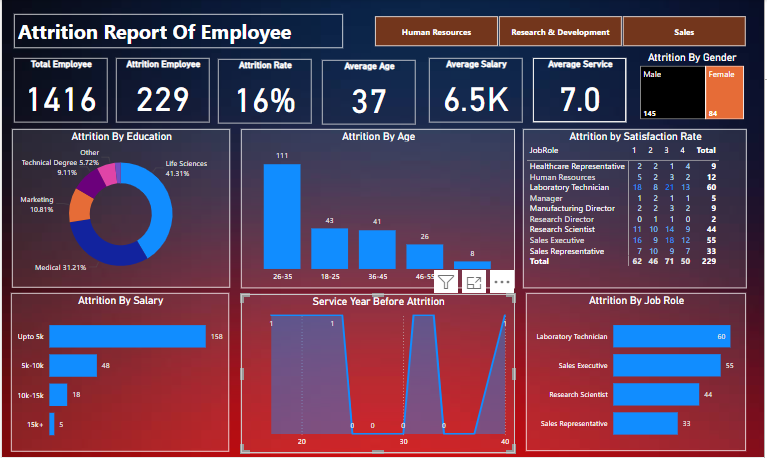

This screenshot's page, from the dashboard's own definition file:
{"tool":"powerbi","page":{"name":"Page 1","canvas":[1230,740],"ordinal":0},"visuals":[{"type":"card","title":"Total Employee","fields":{"Values":["CountNonNull(HR_Analytics.EmpID)"]},"box":[19.2,95.3,151.2,103.9],"z":0},{"type":"card","title":"Average Service","fields":{"Values":["Avg(HR_Analytics.YearsAtCompany)"]},"box":[856.3,95.3,151.2,103.9],"z":1000},{"type":"card","title":"Attrition Employee","fields":{"Values":["Sum(HR_Analytics.AttritionCount)"]},"box":[183.6,95.3,151.2,103.9],"z":2000},{"type":"card","title":"Attrition Rate","fields":{"Values":["HR_Analytics.AttritionRate"]},"box":[348,97.2,151.2,103.9],"z":3000},{"type":"card","title":"Average Age","fields":{"Values":["Avg(HR_Analytics.Age)"]},"box":[516.2,99.1,151.2,103.9],"z":4000},{"type":"card","title":"Average Salary","fields":{"Values":["Avg(HR_Analytics.MonthlyIncome)"]},"box":[690,95.3,151.2,103.9],"z":5000},{"type":"donutChart","title":"Attrition By Education","fields":{"Category":["HR_Analytics.EducationField"],"Y":["CountNonNull(HR_Analytics.Attrition)"]},"box":[16.2,210.1,351.7,256.3],"z":6000},{"type":"columnChart","title":"Attrition By Age","fields":{"Category":["HR_Analytics.AgeGroup"],"Y":["Sum(HR_Analytics.AttritionCount)"]},"box":[385.5,209.8,442.2,257],"z":7000},{"type":"pivotTable","title":"Attrition by Satisfaction Rate","fields":{"Rows":["HR_Analytics.JobRole"],"Columns":["HR_Analytics.JobSatisfaction"],"Values":["Sum(HR_Analytics.AttritionCount)"]},"box":[841,209.8,360.9,257],"z":8000},{"type":"barChart","title":"Attrition By Salary","fields":{"Category":["HR_Analytics.SalarySlab"],"Y":["Sum(HR_Analytics.AttritionCount)"]},"box":[15.1,474.2,351.7,256.3],"z":9000},{"type":"barChart","title":"Attrition By Job Role","fields":{"Category":["HR_Analytics.JobRole"],"Y":["Sum(HR_Analytics.AttritionCount)"]},"box":[846.6,474.3,355.3,255.1],"z":10000},{"type":"areaChart","title":"Service Year Before Attrition","fields":{"Category":["HR_Analytics.YearsAtCompany"],"Y":["Sum(HR_Analytics.AttritionCount)"]},"box":[385.5,476.2,442.2,257],"z":11000},{"type":"treemap","title":"Attrition By Gender","fields":{"Group":["HR_Analytics.Gender"],"Values":["Sum(HR_Analytics.AttritionCount)"]},"box":[1024.3,83.2,177.6,115.3],"z":12000},{"type":"slicer","fields":{"Values":["HR_Analytics.Department"]},"box":[576.4,20.8,648.2,62.4],"z":13000},{"type":"textbox","box":[18.9,24.6,531,54.8],"z":14000}]}

Visuals, with their boxes in screenshot pixels (x1, y1, x2, y2), scaled from the page's 1230x740 canvas onto the 767x458 screenshot:
"Total Employee" card: select_region(12, 59, 106, 123)
"Average Service" card: select_region(534, 59, 628, 123)
"Attrition Employee" card: select_region(114, 59, 209, 123)
"Attrition Rate" card: select_region(217, 60, 311, 124)
"Average Age" card: select_region(322, 61, 416, 126)
"Average Salary" card: select_region(430, 59, 525, 123)
"Attrition By Education" donutChart: select_region(10, 130, 229, 289)
"Attrition By Age" columnChart: select_region(240, 130, 516, 289)
"Attrition by Satisfaction Rate" pivotTable: select_region(524, 130, 749, 289)
"Attrition By Salary" barChart: select_region(9, 293, 229, 452)
"Attrition By Job Role" barChart: select_region(528, 294, 749, 451)
"Service Year Before Attrition" areaChart: select_region(240, 295, 516, 454)
"Attrition By Gender" treemap: select_region(639, 51, 749, 123)
slicer - HR_Analytics.Department: select_region(359, 13, 764, 51)
textbox: select_region(12, 15, 343, 49)
